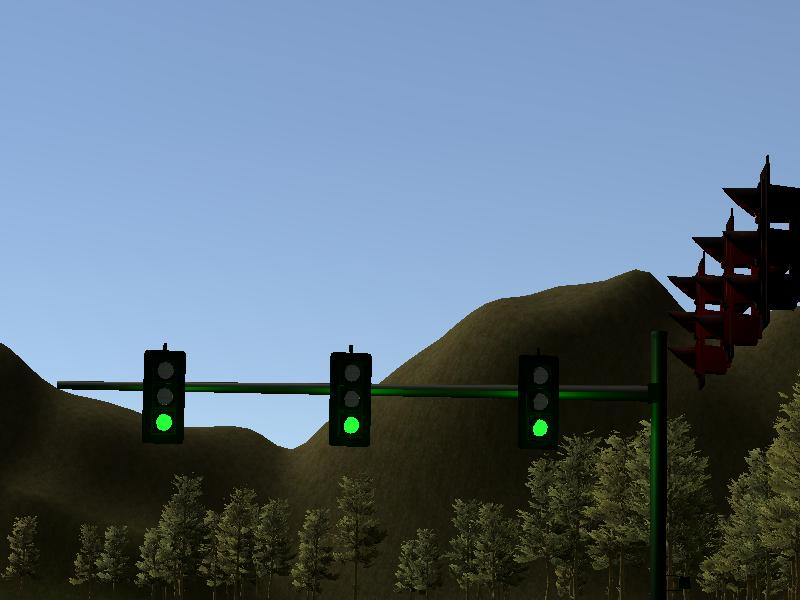Green: (143, 350, 183, 445), (331, 351, 370, 444), (519, 356, 556, 450)
